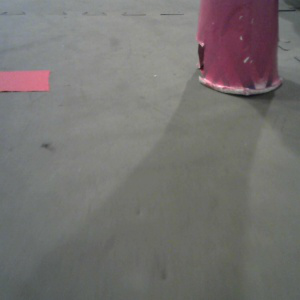right: (195, 1, 284, 94)
